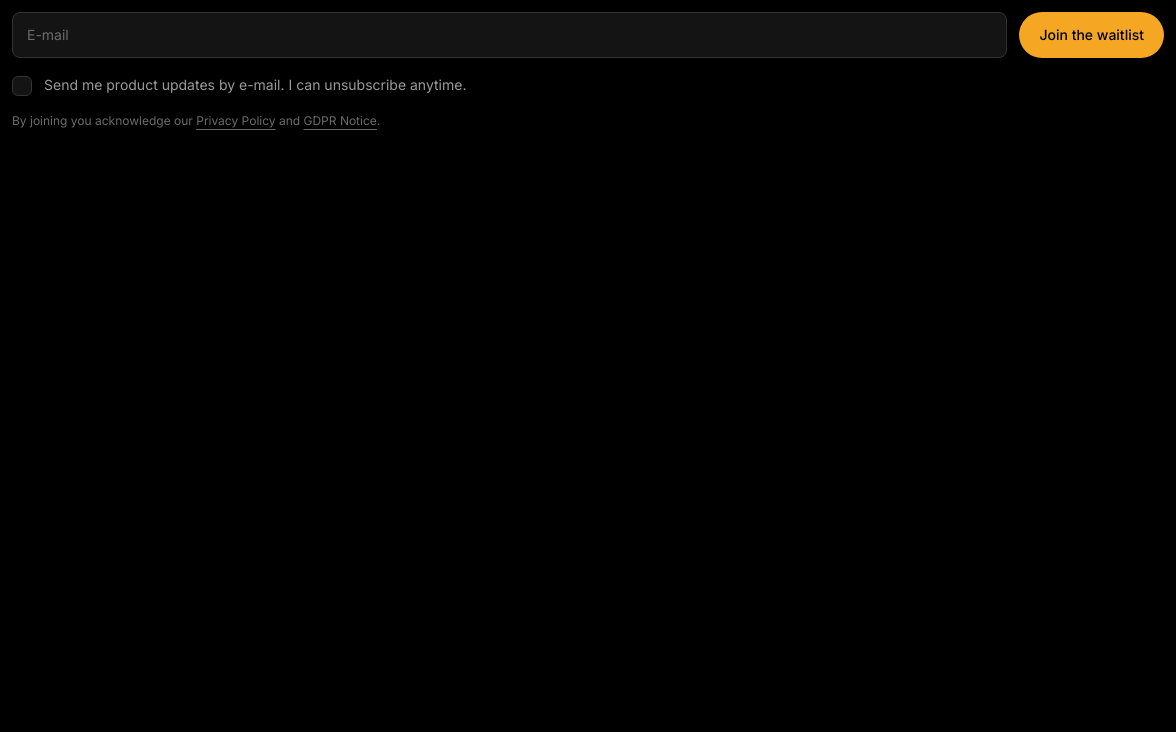
WaitlistForm › validates the e-mail, keeps the marketing box unticked and thanks the user
Check: the checkbox labelled "product updates" is not checked, box [12, 76, 32, 96]
Step 1. Click the button "Join the waitlist" → x=1092, y=35, box [1019, 12, 1164, 58]
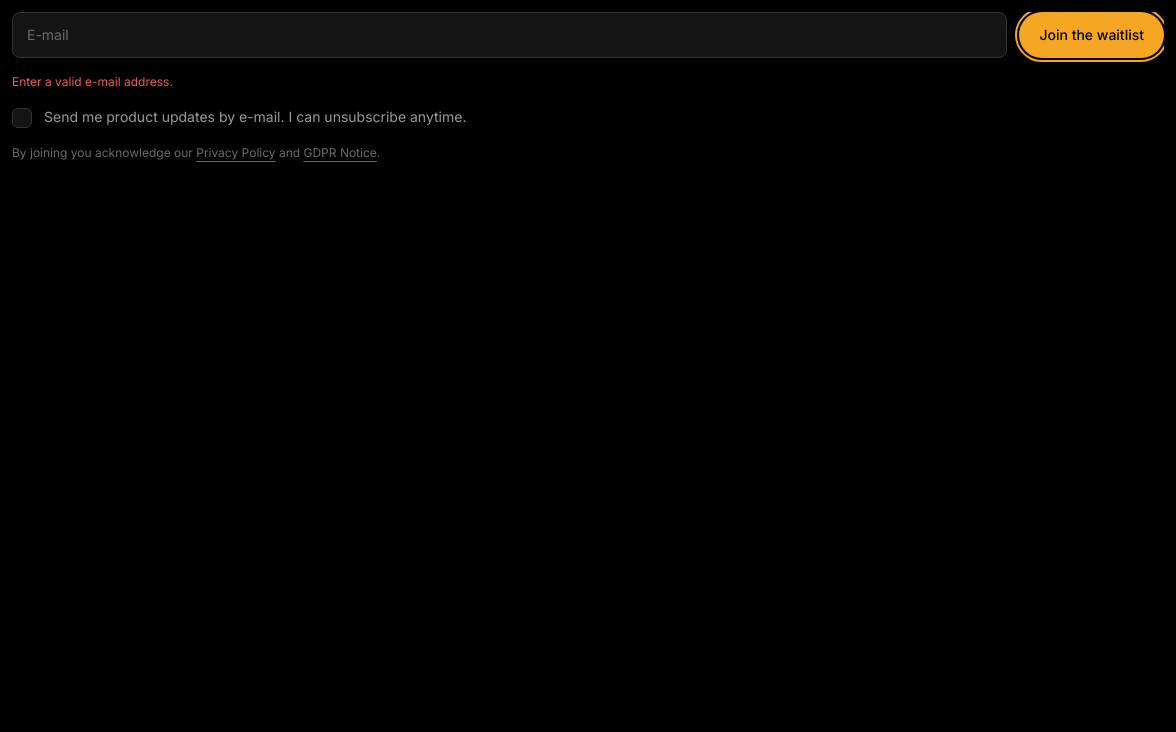
Check: the text "Enter a valid e-mail address." is shown, box [12, 74, 173, 89]
Step 2. Type "team@agency.com" into the field with placeholder "E-mail" → x=510, y=35, box [12, 12, 1007, 58]
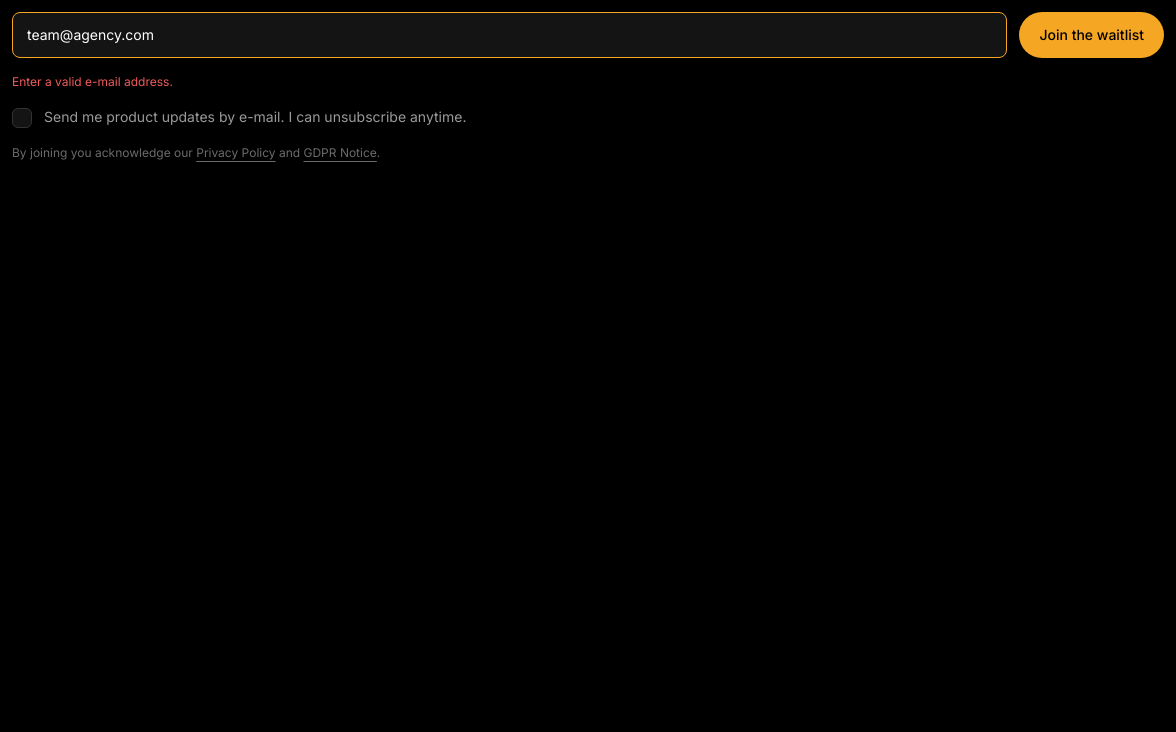
Step 3. Click the button "Join the waitlist" → x=1092, y=35, box [1019, 12, 1164, 58]
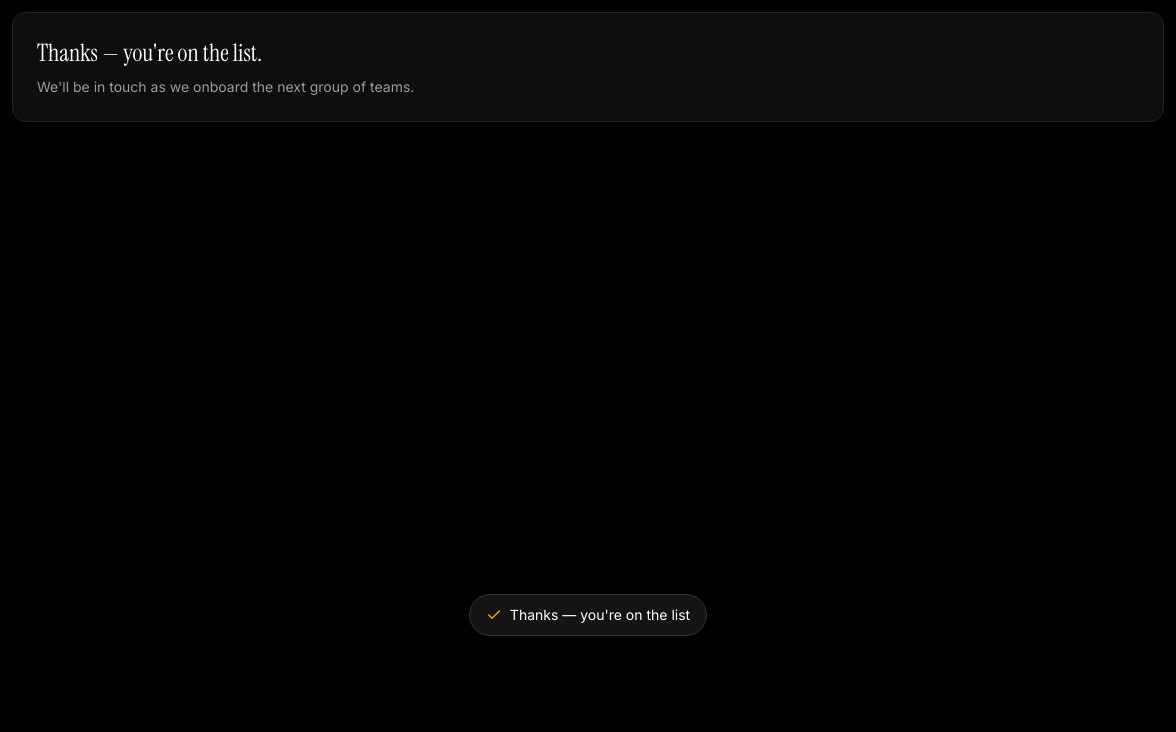
Check: the text "Thanks — you're on the list." is shown, box [37, 37, 262, 68]
